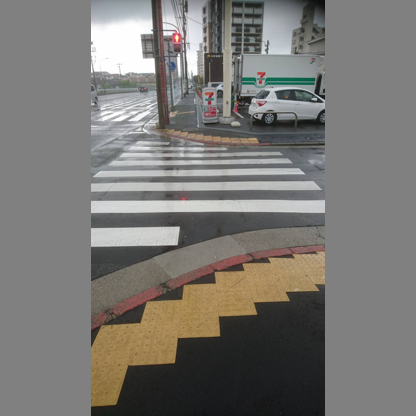brailleblock: (101, 325, 149, 364), (183, 282, 216, 334), (147, 302, 176, 361), (215, 271, 254, 314), (92, 344, 116, 404), (247, 262, 283, 300), (276, 259, 314, 288)
crosswalk: (90, 153, 282, 221)
signal: (169, 31, 182, 54)
